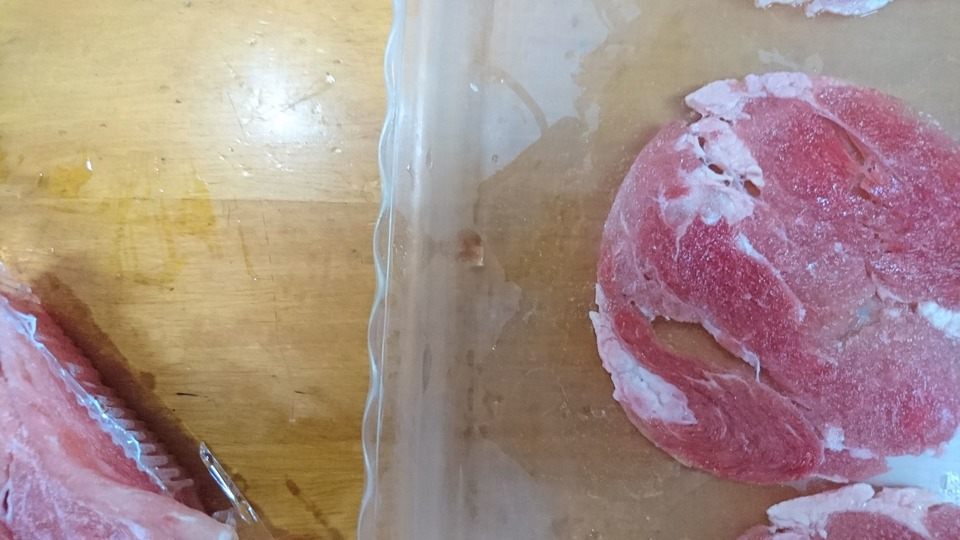restructured meat: (588, 42, 960, 534)
